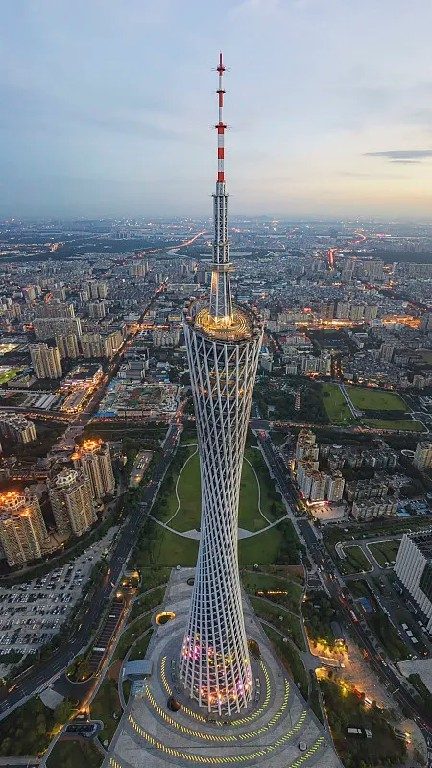Canton: (178, 45, 260, 719)
